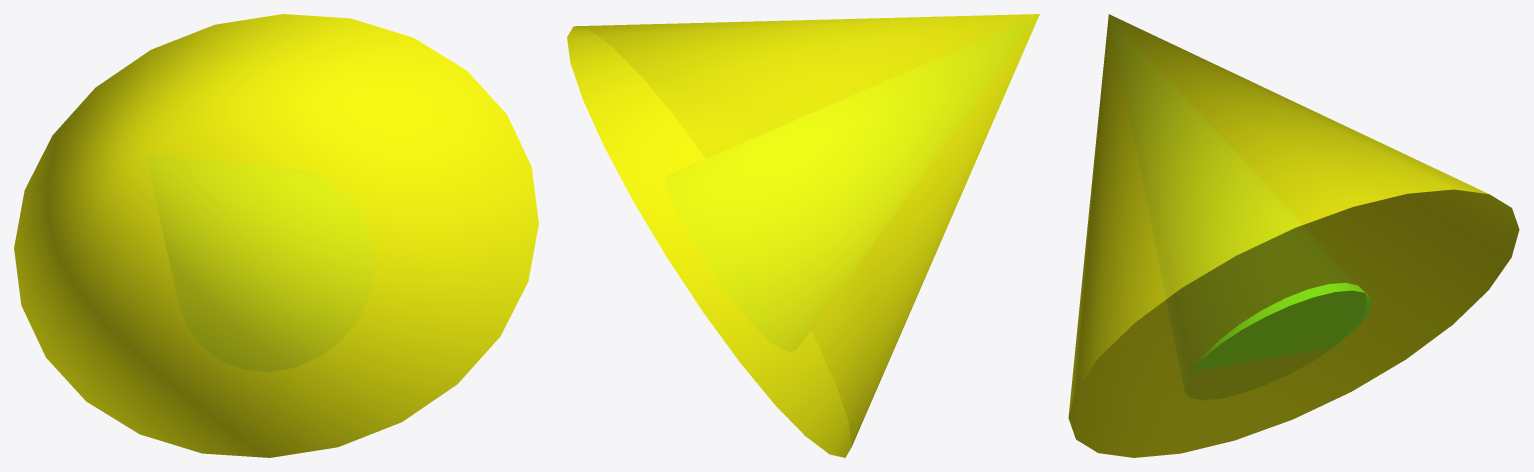
3 renders of one model, left to right at view 1: azimuth 30°, elevation 25°; view 2: azimuth 150°, elevation 25°; view 3: azimuth 270°, elevation 25°, orthographic. The views are drawn at different scales.
Parts seen in each view (by area): view 1: Group2; view 2: Group2; view 3: Group2, Group1.
Boxes of the visible parts, x1,y1,x2,y2 form: Group2: (14, 14, 538, 457); Group2: (567, 14, 1039, 457); Group2: (1068, 14, 1519, 457); Group1: (1191, 282, 1370, 371).
Bounding box in the file's own units: 45.64 × 41.12 × 45.57.
